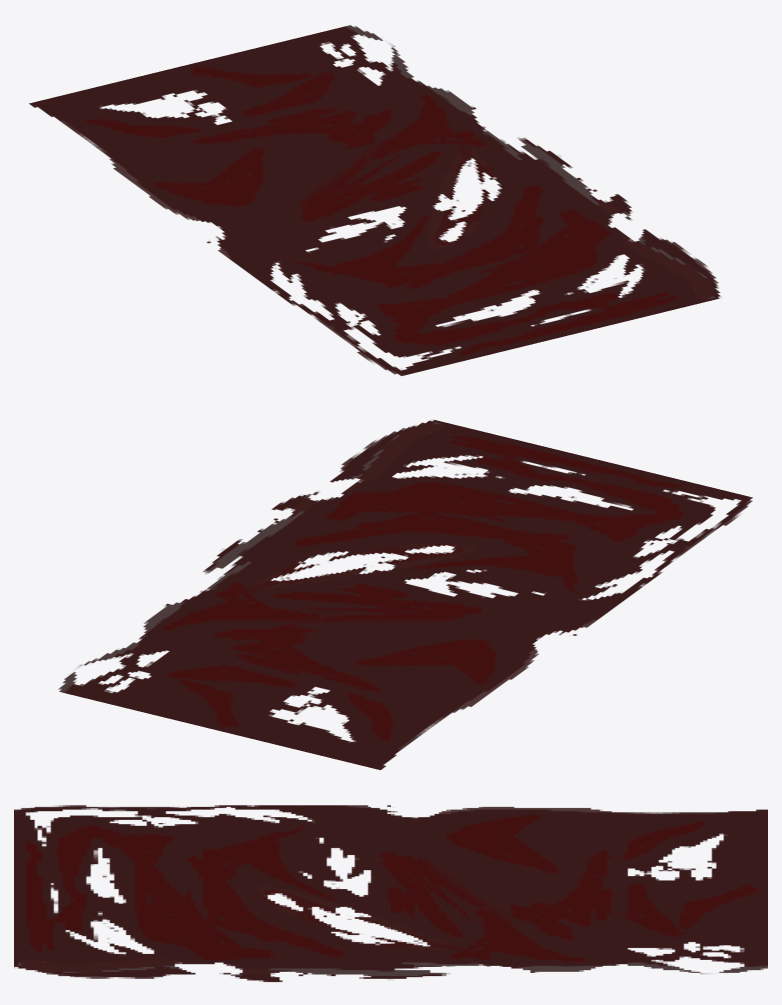
File: tapete001.glb
3 renders of one model, top to bottom at view 1: azimuth 30°, elevation 25°; view 2: azimuth 150°, elevation 25°; view 3: azimuth 270°, elevation 25°, orthographic.
Visible parts, largest first — view 1: tapeteponta_geo; view 2: tapeteponta_geo; view 3: tapeteponta_geo.
Part boxes in pixels (x1=…): tapeteponta_geo: x1=29, y1=25, x2=720, y2=375; tapeteponta_geo: x1=58, y1=420, x2=752, y2=769; tapeteponta_geo: x1=14, y1=805, x2=767, y2=981.
Bounding box in the file's own units: 2.59 × 1.47e-06 × 4.37.
Materials: 1 (1 with a texture image).
